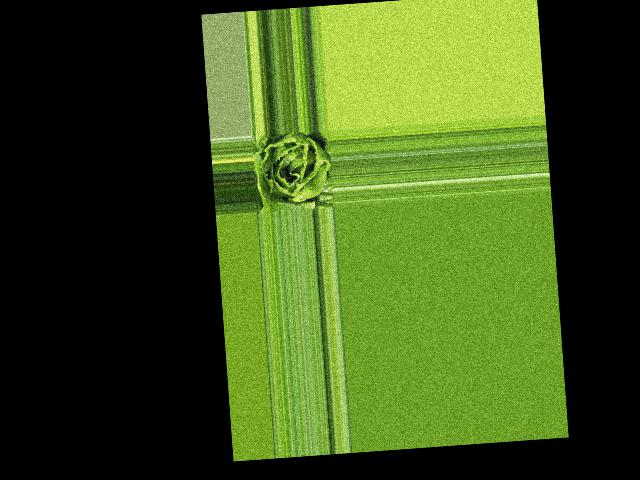lettuce: (252, 131, 333, 213)
